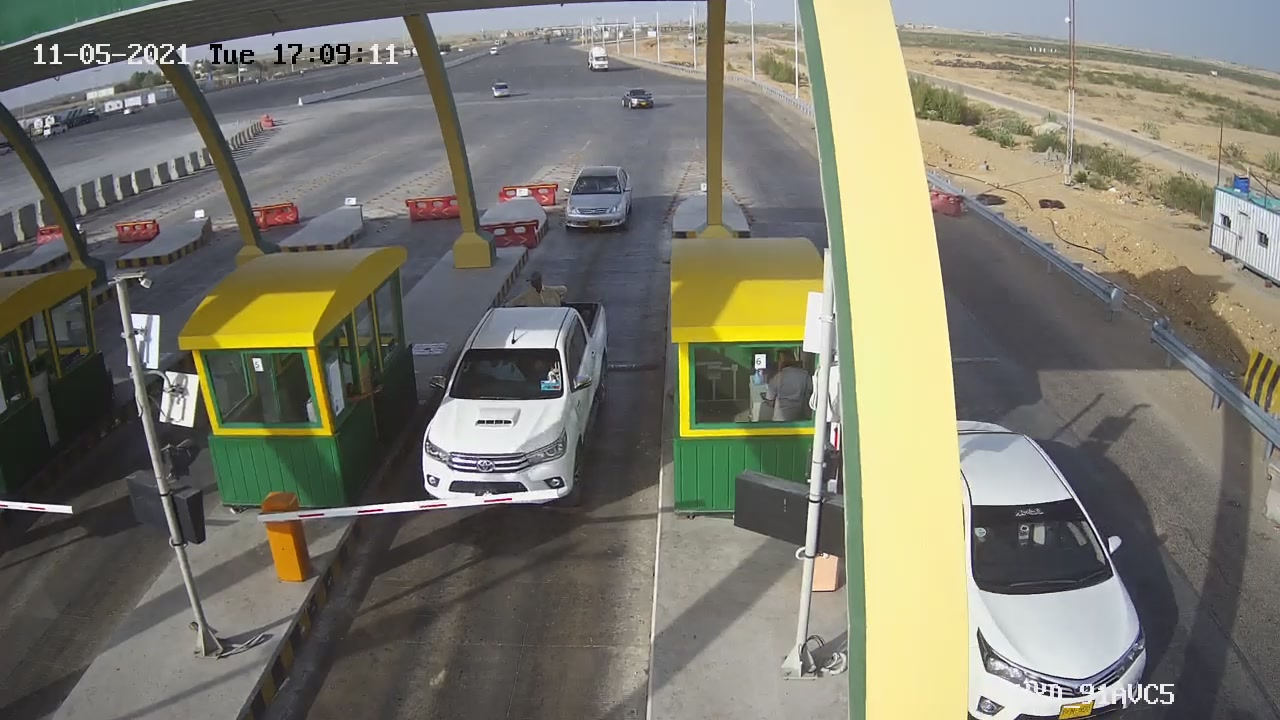F1: (399, 259, 626, 526)
